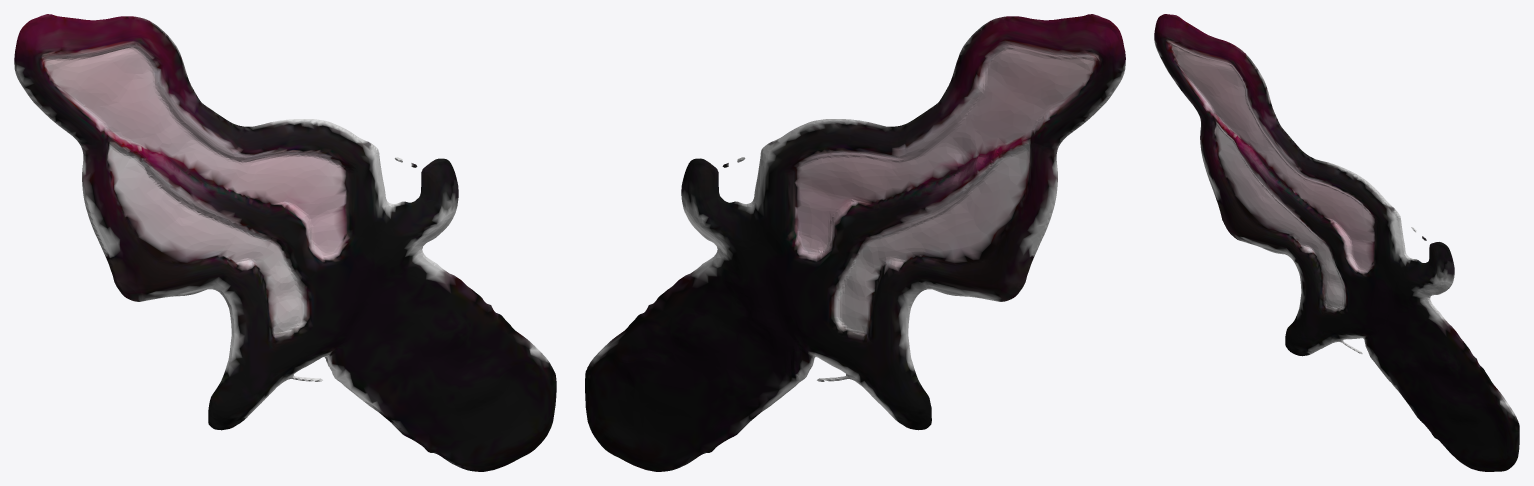
Rendered from dagger_f.glb.
The picture shows the model from 3 angles, left to right: view 1: azimuth 30°, elevation 25°; view 2: azimuth 150°, elevation 25°; view 3: azimuth 330°, elevation 25°; orthographic projection. The views are drawn at different scales.
Parts seen in each view (by area): view 1: geometry_0; view 2: geometry_0; view 3: geometry_0.
Boxes of the visible parts, x1,y1,x2,y2 form: geometry_0: [14, 14, 556, 471]; geometry_0: [585, 14, 1125, 471]; geometry_0: [1154, 14, 1519, 471].
Size of the model in its own units: 0.4688 by 0.4677 by 0.0205.
